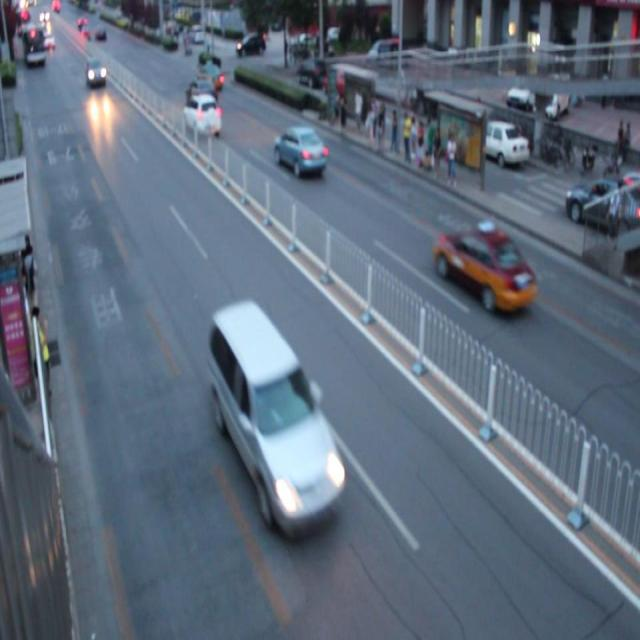car: (433, 220, 536, 316), (272, 124, 326, 177), (183, 96, 222, 141), (186, 76, 217, 111), (196, 61, 222, 90)
truck: (210, 304, 343, 532)
